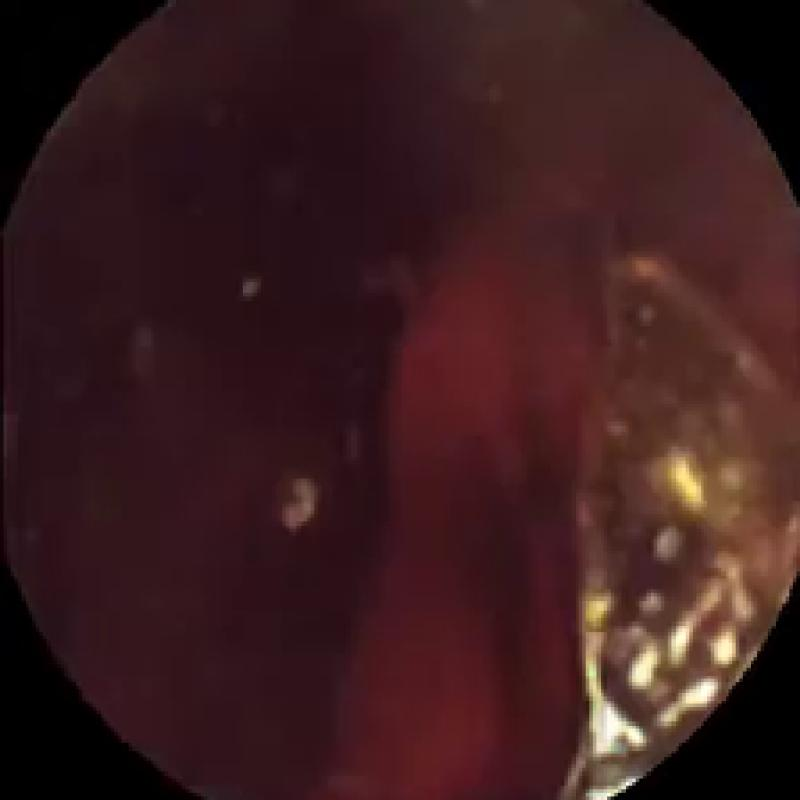bleeding: (336, 200, 604, 800)
